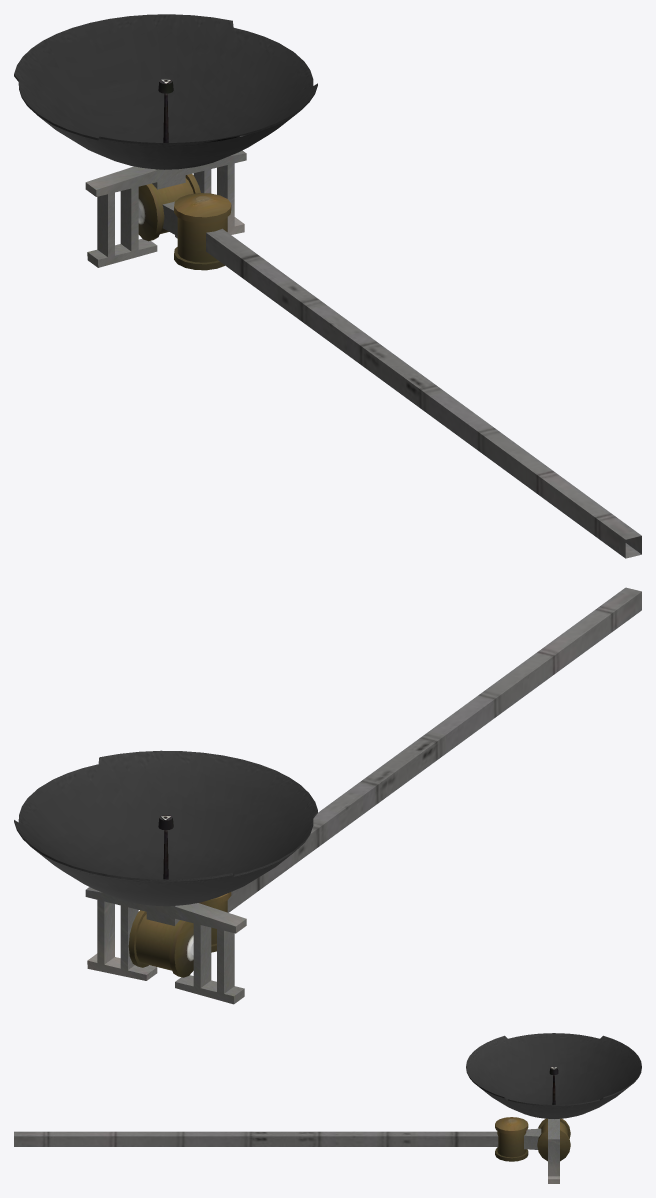
Rendered from hubble-antenna-far.glb.
3 renders of one model, top to bottom at view 1: azimuth 30°, elevation 25°; view 2: azimuth 150°, elevation 25°; view 3: azimuth 270°, elevation 25°, orthographic. The views are drawn at different scales.
Parts seen in each view (by area): view 1: antenna-far; view 2: antenna-far; view 3: antenna-far.
Part boxes in pixels (x1,y1,x2,y2): antenna-far: [14, 14, 641, 558]; antenna-far: [14, 587, 641, 1004]; antenna-far: [14, 1033, 641, 1183].
Bounding box in the file's own units: 1.14 × 0.717 × 4.22.
1 material, 1 textured.
